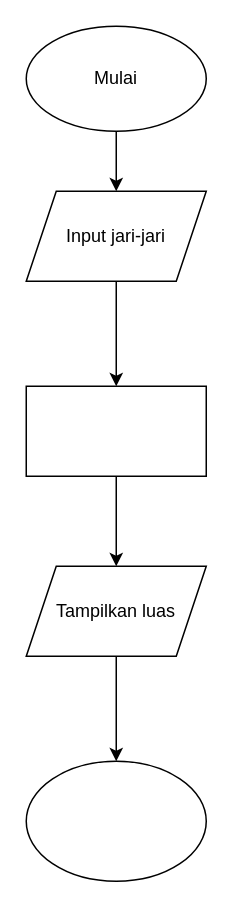
The diagram is 233 pixels wide and 908 high, and some of its shapes have lost their labels. Each missing label, with the centre of its shape:
"Hitung luas 3.14*r*r" goes at point (115, 430).
"Selesai" goes at point (115, 820).
